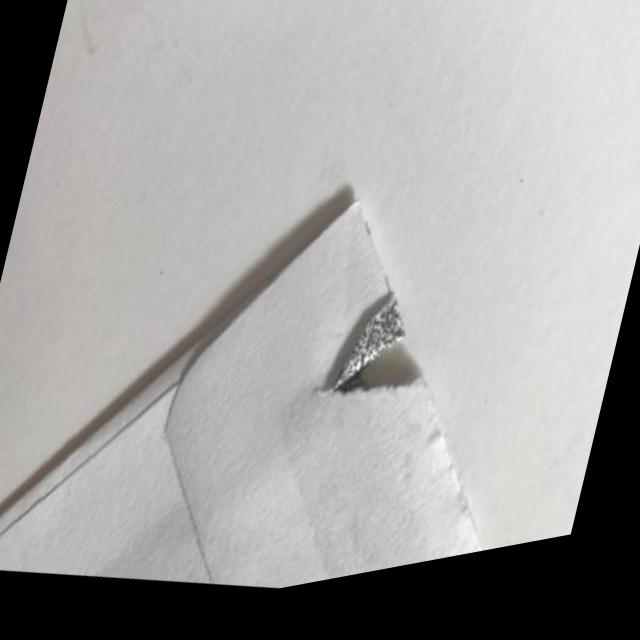paper: (0, 87, 585, 640)
